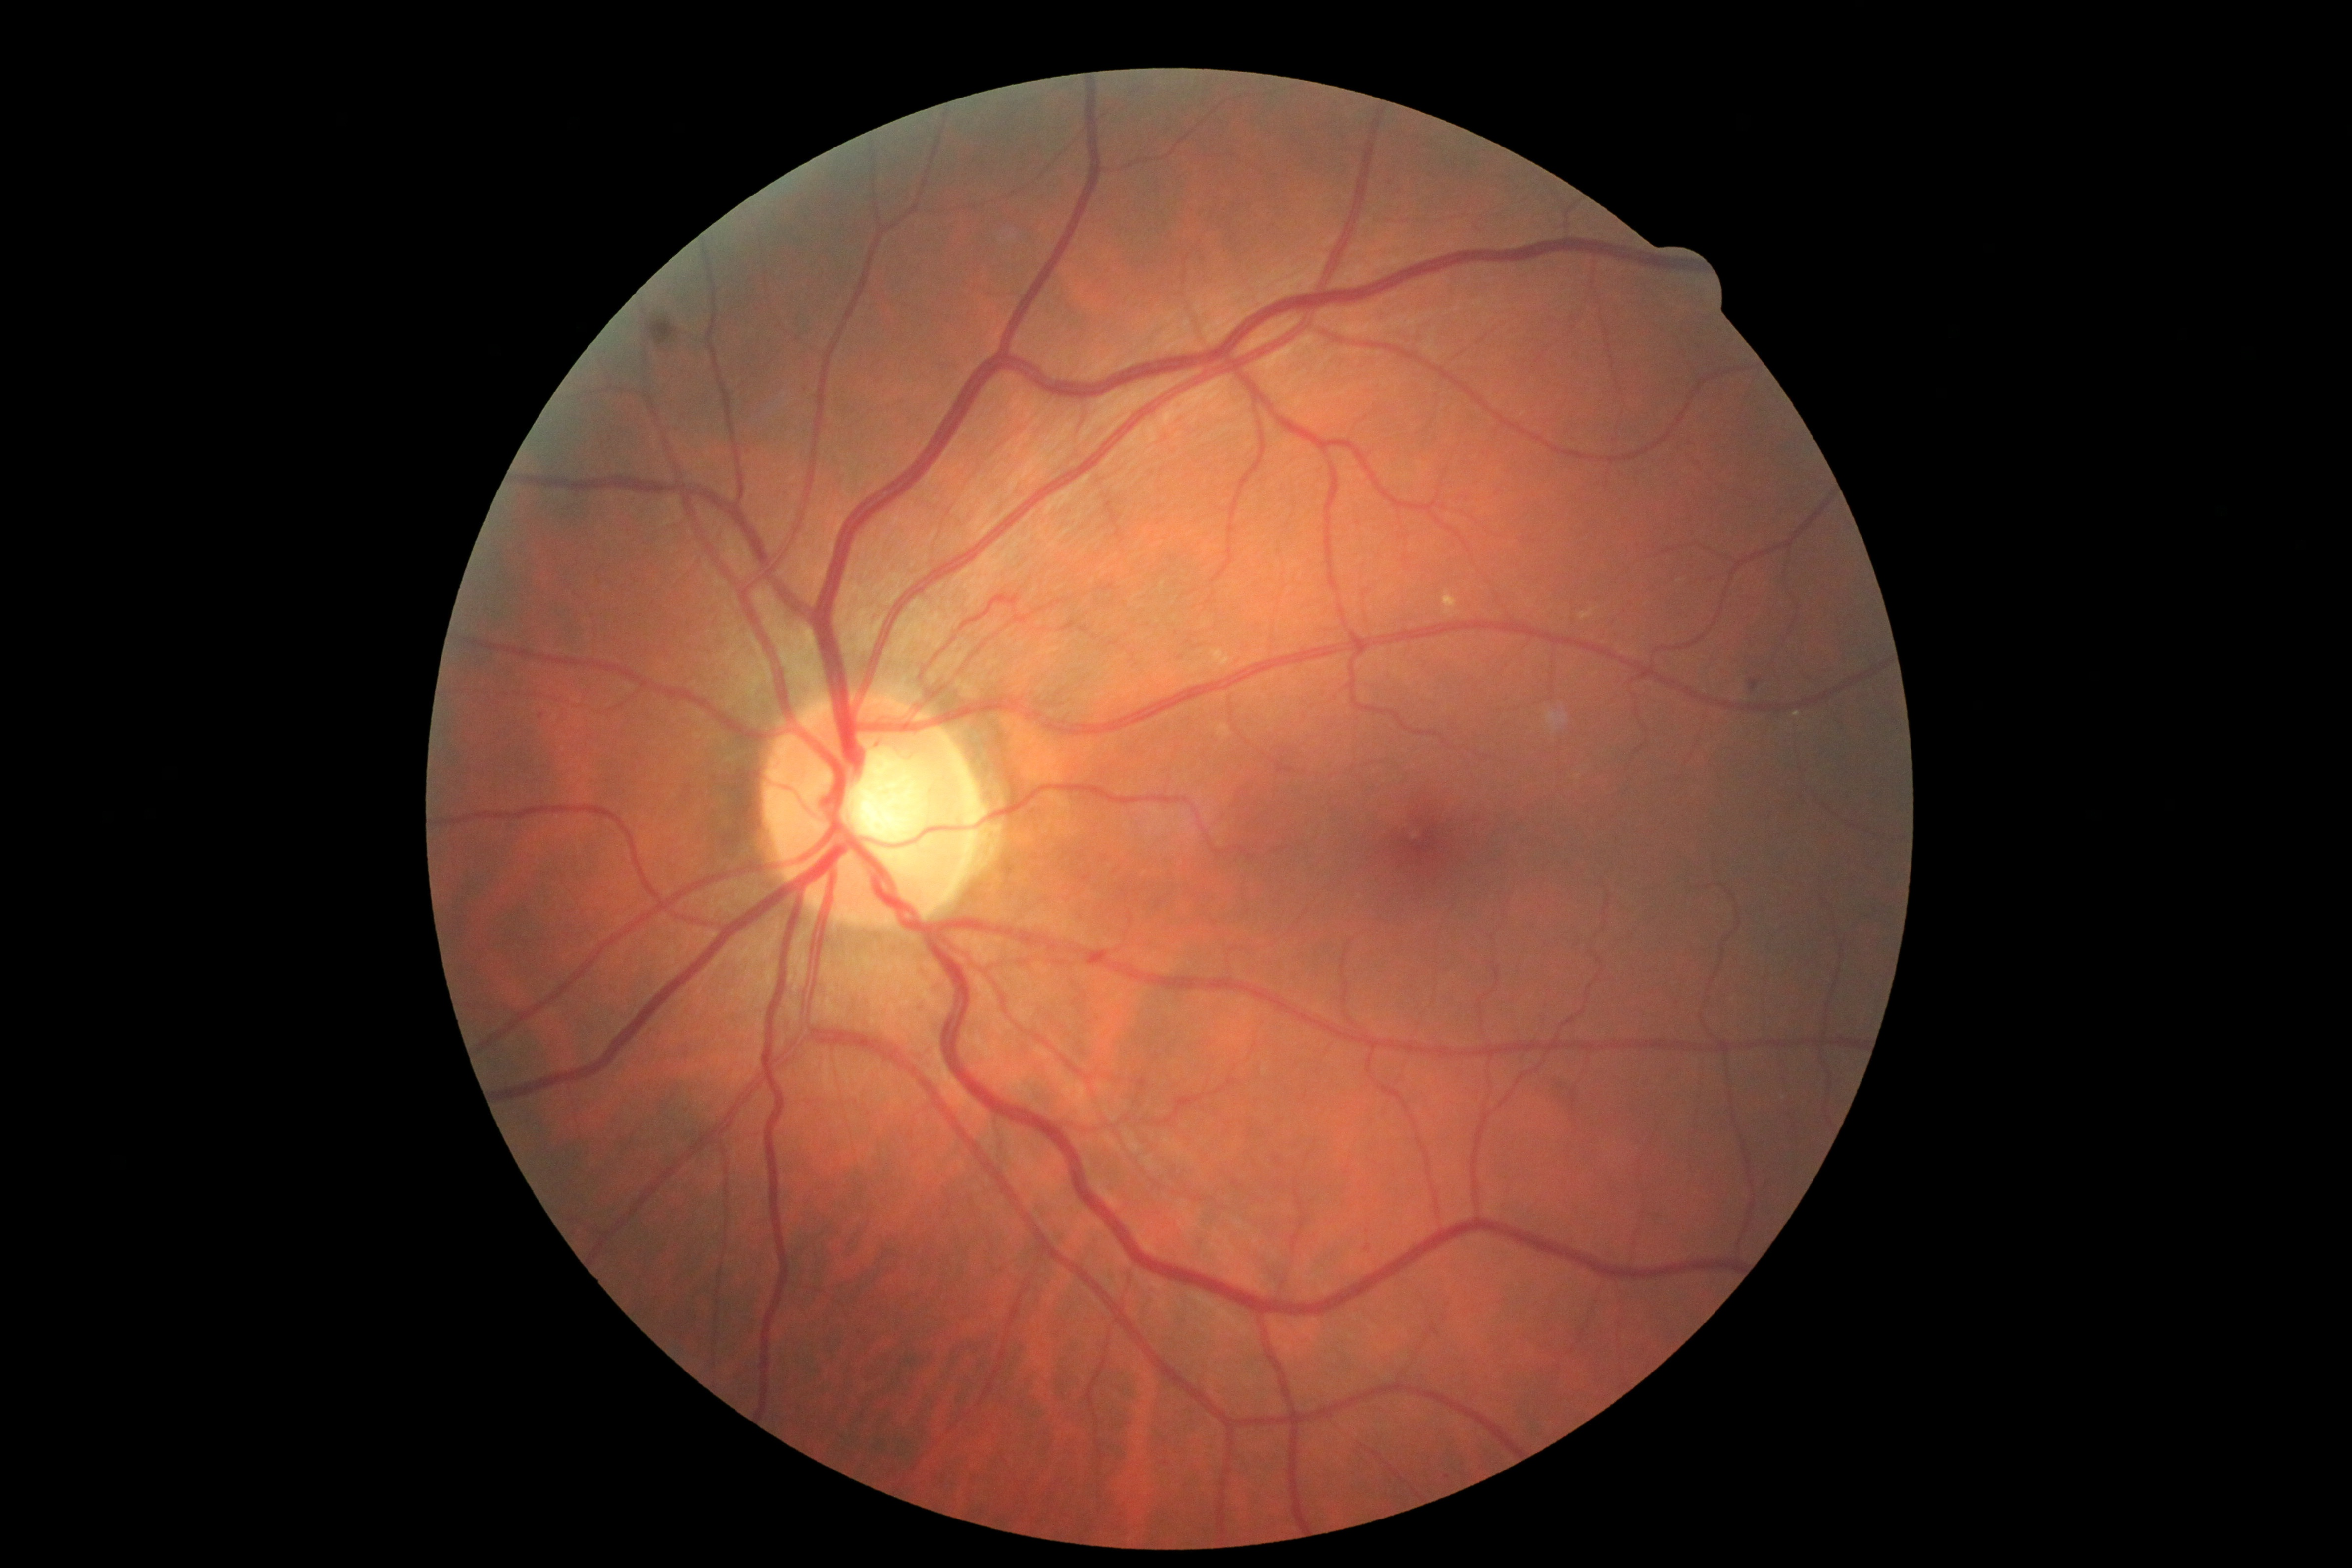Fovea: (1335, 759, 1491, 931)
OD: (744, 677, 998, 936)
